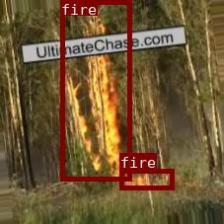fire: (59, 0, 130, 180), (119, 168, 174, 189)
